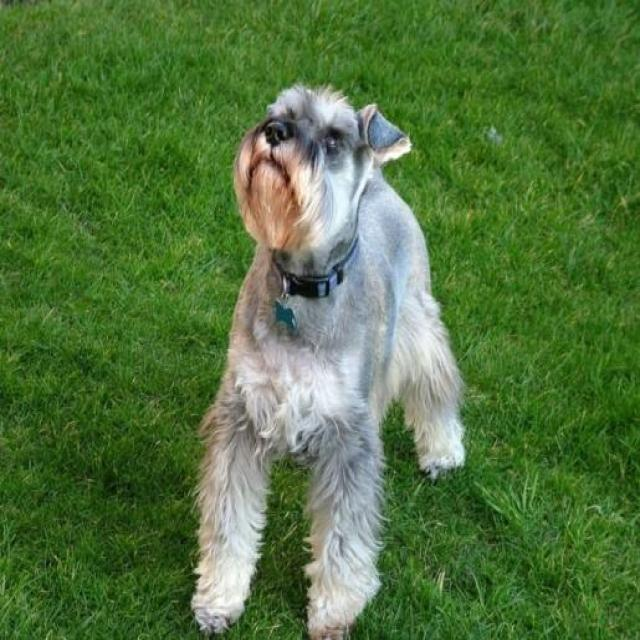standard_schnauzer: (192, 78, 466, 638)
